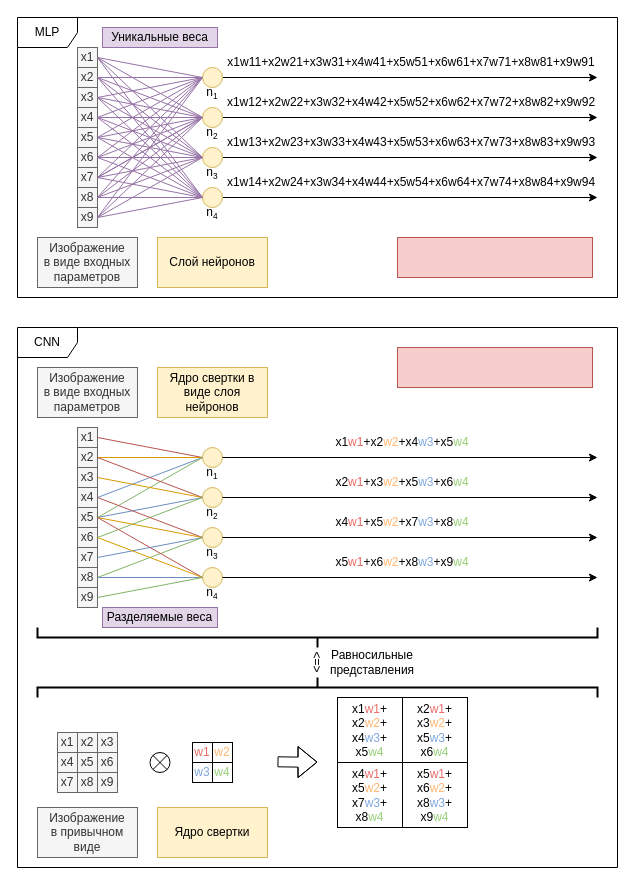
Image size: 635x885. Some labels were removed from this diagram. Here are the shapes that lost their labels. From the top down, the centre of each, then its label:
At point (494, 257): "Больше весов, больше операций".
At point (494, 367): "Меньше весов, меньше операций".
